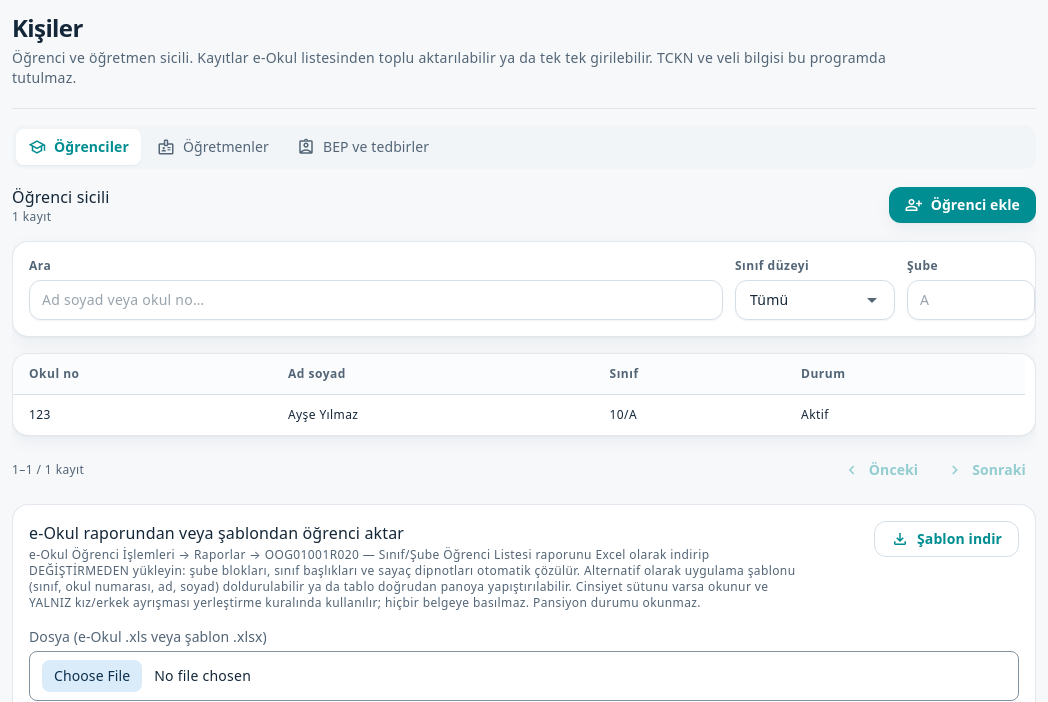
Test: KisilerPage — öğretmen sekmesi › sekmeye geçince öğretmen listesi yüklenir
The image size is (1048, 702).
Expected: the text "Ayşe Yılmaz" is shown, [272,394,594,435]
Click the tab "Öğretmenler" at {"x": 213, "y": 147}, box [145,129,281,165]
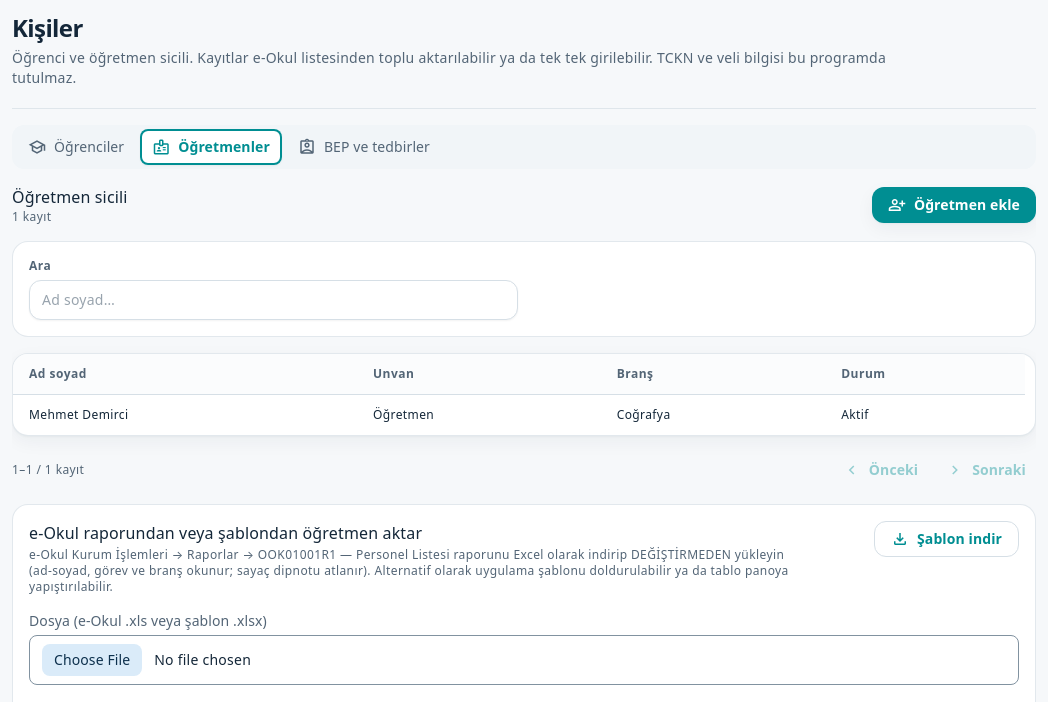
Now the text "Mehmet Demirci" is shown, box [13,394,357,435]
Now the text "Coğrafya" is shown, box [601,394,825,435]
